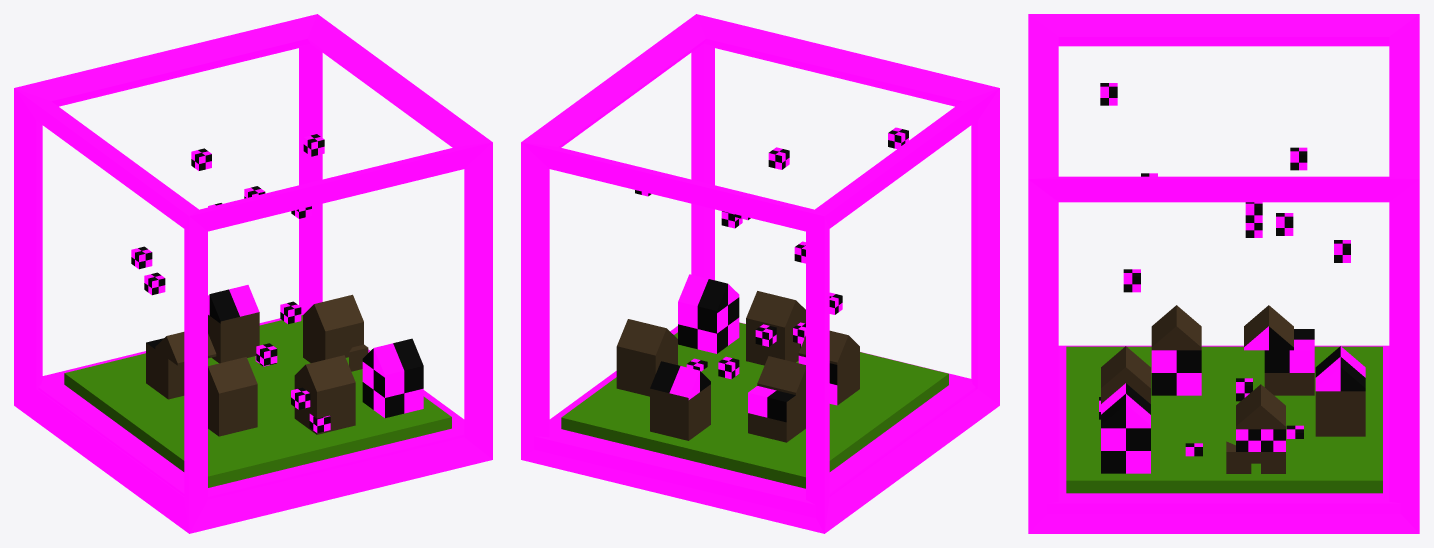
Rendered from Corrupt World Memory Cube.fbx.
3 views of the same model, side by side, from view 1: azimuth 30°, elevation 25°; view 2: azimuth 150°, elevation 25°; view 3: azimuth 270°, elevation 25° (orthographic). The views are drawn at different scales.
Visible parts, largest first — view 1: Cube.041, Cube.040, Cube.042, Cube.073, Cube.070, Cube.068, Cube.071, Cube.072, Cube.069; view 2: Cube.041, Cube.040, Cube.042, Cube.069, Cube.073, Cube.071, Cube.072, Cube.070, Cube.068; view 3: Cube.041, Cube.040, Cube.042, Cube.069, Cube.068, Cube.071, Cube.073, Cube.072, Cube.070, Cube.082.
Boxes of the visible parts, box(x1,y1,x2,y2) form: Cube.041: box(14, 14, 492, 533); Cube.040: box(64, 315, 451, 487); Cube.042: box(38, 318, 464, 499); Cube.073: box(362, 338, 423, 418); Cube.070: box(294, 355, 355, 434); Cube.068: box(208, 357, 257, 436); Cube.071: box(208, 285, 259, 363); Cube.072: box(303, 294, 363, 362); Cube.069: box(146, 332, 216, 399); Cube.041: box(521, 14, 999, 533); Cube.040: box(561, 322, 948, 488); Cube.042: box(533, 326, 975, 517); Cube.069: box(748, 356, 805, 442); Cube.073: box(678, 274, 739, 353); Cube.071: box(650, 361, 710, 440); Cube.072: box(616, 319, 677, 396); Cube.070: box(746, 291, 805, 365); Cube.068: box(798, 330, 859, 405); Cube.041: box(1028, 14, 1419, 533); Cube.040: box(1066, 346, 1382, 493); Cube.042: box(1047, 347, 1400, 513); Cube.069: box(1244, 305, 1314, 395); Cube.068: box(1151, 305, 1201, 395); Cube.071: box(1315, 346, 1365, 436); Cube.073: box(1101, 383, 1150, 473); Cube.072: box(1236, 384, 1285, 473); Cube.070: box(1101, 346, 1150, 403); Cube.082: box(1226, 441, 1251, 473).
Bounding box in the file's own units: 61.71 × 61.71 × 61.71.
